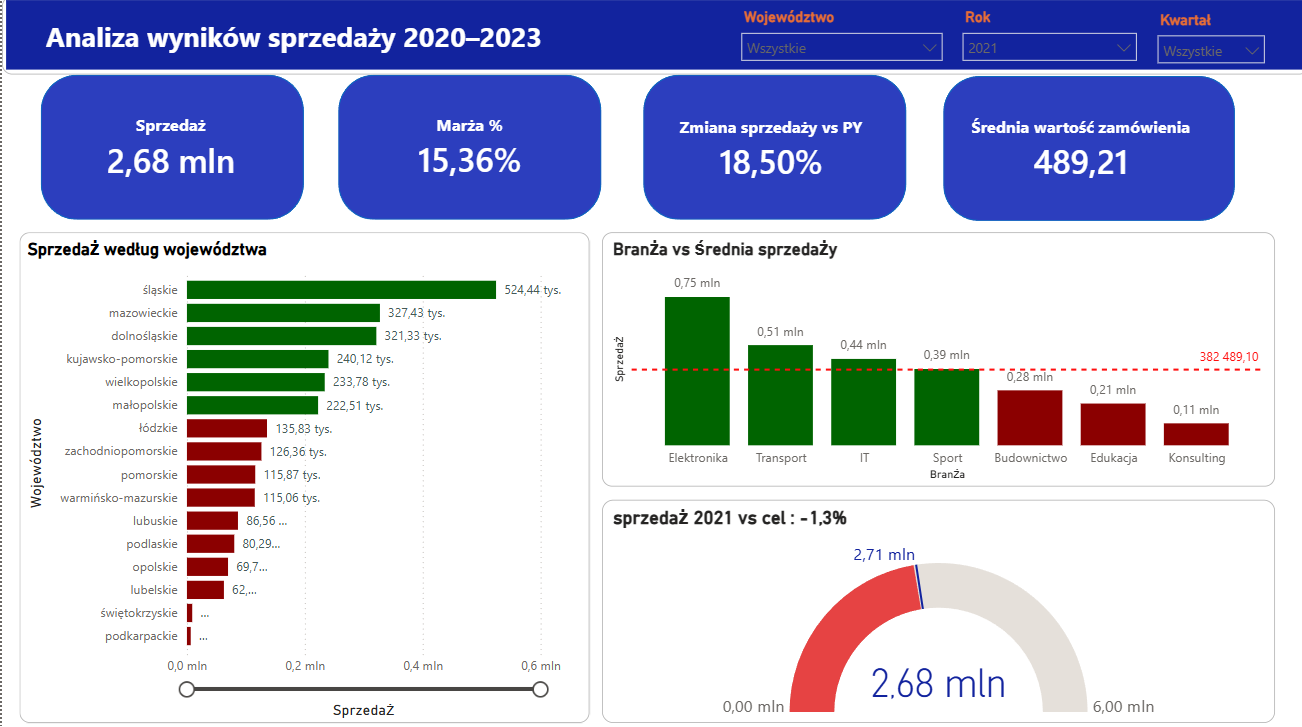

This screenshot's page, from the dashboard's own definition file:
{"tool":"powerbi","page":{"name":"Sales Intelligence Dashboard","canvas":[1280,720],"ordinal":0},"visuals":[{"type":"shape","box":[0,0,1280,76.5],"z":0},{"type":"shape","box":[329.2,76.5,257.4,141.9],"z":0,"group":"g2"},{"type":"shape","box":[626.9,76.5,257.4,141.9],"z":0,"group":"g3"},{"type":"shape","box":[919.9,78,285.3,141.9],"z":0,"group":"g4"},{"type":"group","id":"g1","title":"Grupa 1","box":[37.6,76.5,257.4,141.9],"z":1000},{"type":"shape","box":[37.6,76.5,257.4,141.9],"z":1000,"group":"g1"},{"type":"cardVisual","fields":{"Data":["_Miary.Średnia wartość zamówienia"]},"box":[884.9,76.5,340.9,144.7],"z":1000,"group":"g4"},{"type":"cardVisual","fields":{"Data":["_Miary.Zmiana sprzedaży vs PY"]},"box":[620.8,78.9,263,139.1],"z":1000,"group":"g3"},{"type":"cardVisual","fields":{"Data":["_Miary.Marża %"]},"box":[354.2,88.7,208.7,116.9],"z":1000,"group":"g2"},{"type":"group","id":"g2","title":"Grupa 2","box":[329.2,76.5,257.4,141.9],"z":2000},{"type":"group","id":"g3","title":"Grupa 3","box":[620.8,76.5,263,141.9],"z":3000},{"type":"group","id":"g4","title":"Grupa 4","box":[884.9,76.5,340.9,144.7],"z":4000},{"type":"cardVisual","fields":{"Data":["_Miary.Sprzedaż"]},"box":[47.3,86.2,235.1,122.4],"z":5000,"group":"g1"},{"type":"clusteredColumnChart","title":"Branża vs średnia sprzedaży","fields":{"Category":["Klient.Branża"],"Y":["_Miary.Sprzedaż"]},"box":[587.1,231,658.1,249],"z":5000},{"type":"barChart","title":"Sprzedaż według województwa","fields":{"Category":["Miasta.Województwo"],"Y":["_Miary.Sprzedaż"]},"box":[16.7,231,557.9,480],"z":6000},{"type":"slicer","fields":{"Values":["Kalendarz.Rok"]},"box":[929.4,7,190.6,65.4],"z":7000},{"type":"slicer","fields":{"Values":["Kalendarz.Kwartał"]},"box":[1120,9.7,125.2,58.4],"z":8000},{"type":"slicer","fields":{"Values":["Miasta.Województwo"]},"box":[712.3,7,217,65.4],"z":9000},{"type":"gauge","fields":{"Y":["_Miary.Sprzedaż"],"TargetValue":["_Miary.Cel sprzedaży rok"]},"box":[587.1,492.5,658.1,218.4],"z":10000},{"type":"textbox","box":[37.6,15.3,506.4,47.3],"z":11000}]}

Visuals, with their boxes in screenshot pixels (x1, y1, x2, y2), scaled from the page's 1280x720 canvas onto the 1302x727 screenshot:
shape: {"x1": 0, "y1": 0, "x2": 1301, "y2": 77}
shape: {"x1": 335, "y1": 77, "x2": 597, "y2": 221}
shape: {"x1": 638, "y1": 77, "x2": 899, "y2": 221}
shape: {"x1": 936, "y1": 79, "x2": 1226, "y2": 222}
"Grupa 1" group: {"x1": 38, "y1": 77, "x2": 300, "y2": 221}
shape: {"x1": 38, "y1": 77, "x2": 300, "y2": 221}
cardVisual - _Miary.Średnia wartość zamówienia: {"x1": 900, "y1": 77, "x2": 1247, "y2": 223}
cardVisual - _Miary.Zmiana sprzedaży vs PY: {"x1": 631, "y1": 80, "x2": 899, "y2": 220}
cardVisual - _Miary.Marża %: {"x1": 360, "y1": 90, "x2": 573, "y2": 208}
"Grupa 2" group: {"x1": 335, "y1": 77, "x2": 597, "y2": 221}
"Grupa 3" group: {"x1": 631, "y1": 77, "x2": 899, "y2": 221}
"Grupa 4" group: {"x1": 900, "y1": 77, "x2": 1247, "y2": 223}
cardVisual - _Miary.Sprzedaż: {"x1": 48, "y1": 87, "x2": 287, "y2": 211}
"Branża vs średnia sprzedaży" clusteredColumnChart: {"x1": 597, "y1": 233, "x2": 1267, "y2": 485}
"Sprzedaż według województwa" barChart: {"x1": 17, "y1": 233, "x2": 584, "y2": 718}
slicer - Kalendarz.Rok: {"x1": 945, "y1": 7, "x2": 1139, "y2": 73}
slicer - Kalendarz.Kwartał: {"x1": 1139, "y1": 10, "x2": 1267, "y2": 69}
slicer - Miasta.Województwo: {"x1": 725, "y1": 7, "x2": 945, "y2": 73}
gauge - _Miary.Sprzedaż x _Miary.Cel sprzedaży rok: {"x1": 597, "y1": 497, "x2": 1267, "y2": 718}
textbox: {"x1": 38, "y1": 15, "x2": 553, "y2": 63}
